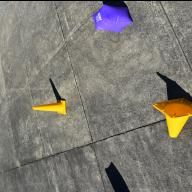cone: (152, 97, 192, 136), (32, 99, 66, 113)
cube: (92, 3, 134, 32), (116, 190, 127, 192)
